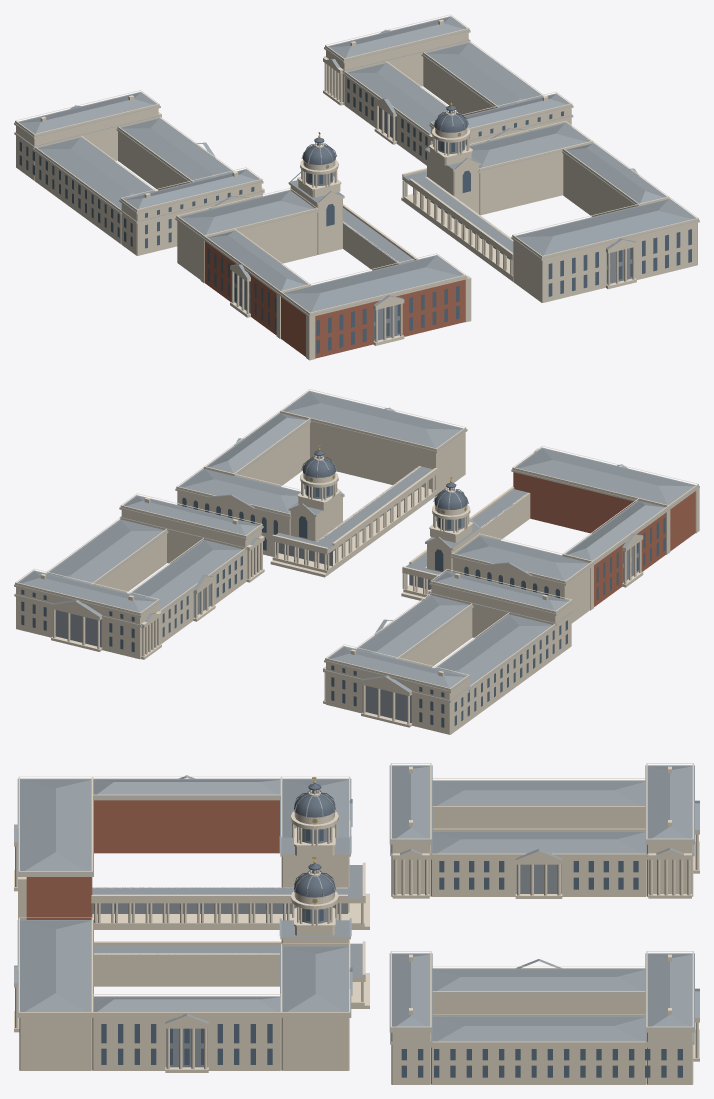
File: london-old-royal-naval-college.glb
3 renders of one model, top to bottom at view 1: azimuth 30°, elevation 25°; view 2: azimuth 150°, elevation 25°; view 3: azimuth 270°, elevation 25°, orthographic. The views are drawn at different scales.
Visible parts, largest first — view 1: Old Royal Naval College; view 2: Old Royal Naval College; view 3: Old Royal Naval College.
Boxes of the visible parts, x1,y1,x2,y2 form: Old Royal Naval College: (14, 14, 699, 360); Old Royal Naval College: (14, 389, 699, 734); Old Royal Naval College: (14, 763, 699, 1084).
Bounding box in the file's own units: 189 × 45.3 × 207.
